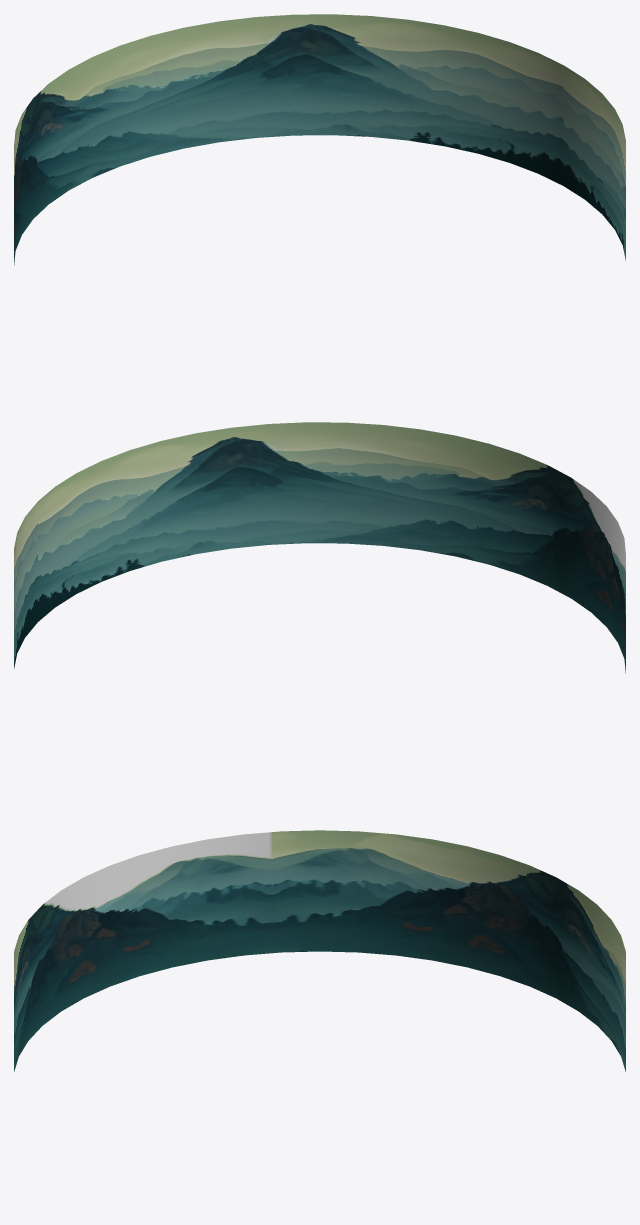
File: my_mountains.gltf
3 views of the same model, one above another, from view 1: azimuth 30°, elevation 25°; view 2: azimuth 150°, elevation 25°; view 3: azimuth 270°, elevation 25° (orthographic).
Visible parts, largest first — view 1: Mountain_range; view 2: Mountain_range; view 3: Mountain_range.
Boxes of the visible parts, box(x1,y1,x2,y2) form: Mountain_range: box(14, 14, 625, 265); Mountain_range: box(14, 422, 625, 673); Mountain_range: box(14, 830, 625, 1071).
Size of the model in its own units: 71.69 by 15.63 by 71.55.
1 material, 1 textured.
